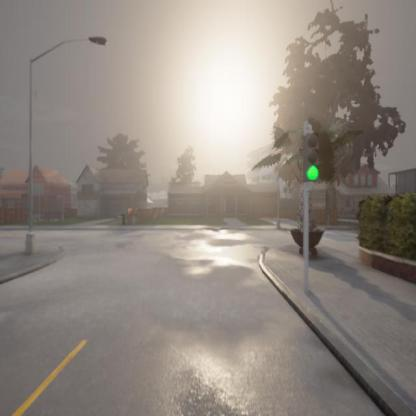traffic_light_green: (301, 128, 320, 181)
